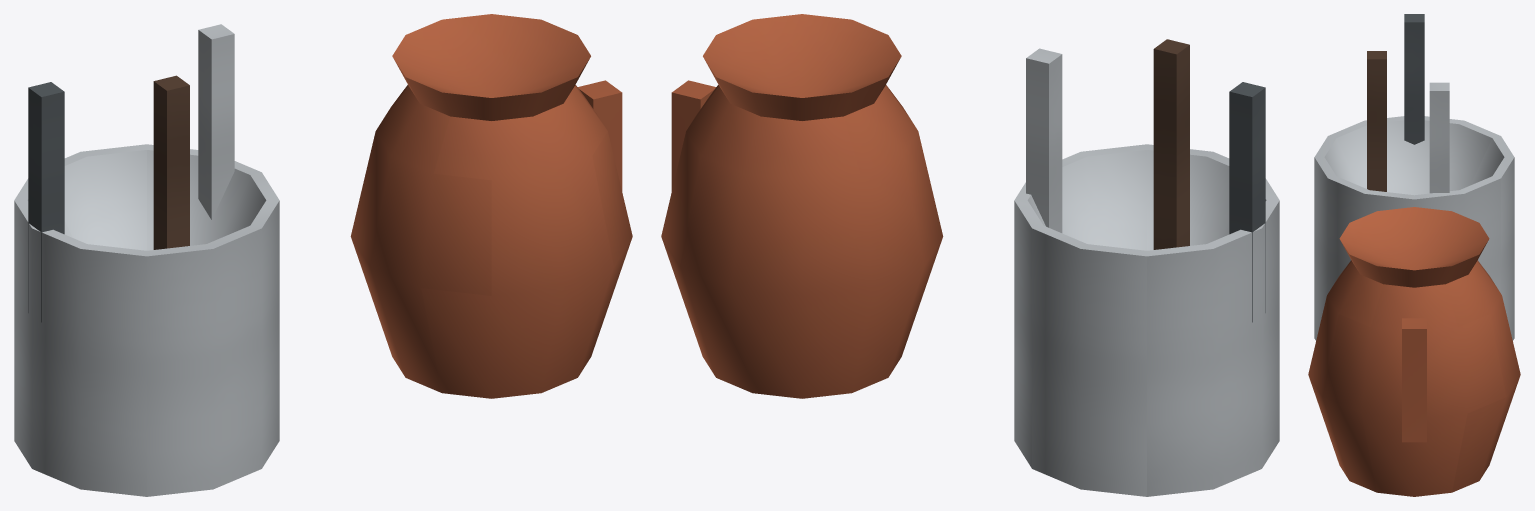
The model's file is counter_props_crock.glb.
3 views of the same model, side by side, from view 1: azimuth 30°, elevation 25°; view 2: azimuth 150°, elevation 25°; view 3: azimuth 270°, elevation 25° (orthographic). The views are drawn at different scales.
Visible parts, largest first — view 1: counter_props_crock_body; view 2: counter_props_crock_body; view 3: counter_props_crock_body.
Part boxes in pixels (box(x1,y1,x2,y2)): counter_props_crock_body: box(14, 14, 632, 496); counter_props_crock_body: box(661, 14, 1279, 496); counter_props_crock_body: box(1308, 14, 1520, 496).
Bounding box in the file's own units: 0.405 × 0.25 × 0.17.
Materials: 4 (4 with a texture image).
